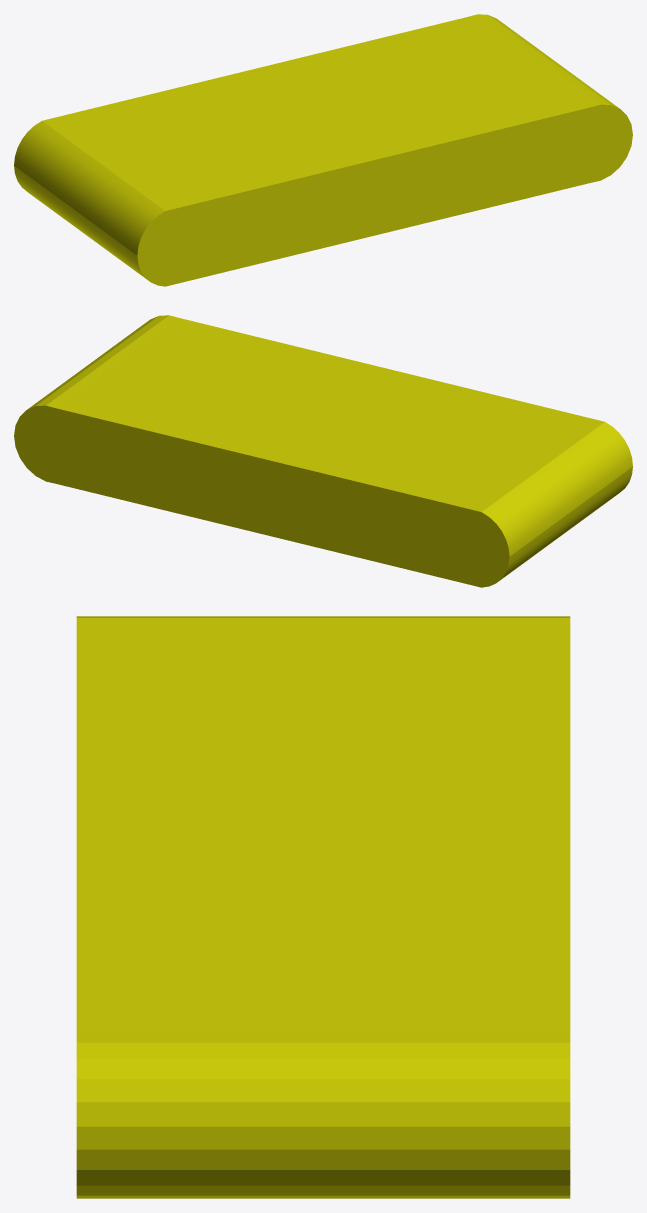
File: original-1.obj
3 renders of one model, top to bottom at view 1: azimuth 30°, elevation 25°; view 2: azimuth 150°, elevation 25°; view 3: azimuth 270°, elevation 25°, orthographic. The views are drawn at different scales.
Parts seen in each view (by area): view 1: Group2/mesh1/mesh1-geometry#mesh1-geometry; view 2: Group2/mesh1/mesh1-geometry#mesh1-geometry; view 3: Group2/mesh1/mesh1-geometry#mesh1-geometry.
Boxes of the visible parts, bbox=[...] form: Group2/mesh1/mesh1-geometry#mesh1-geometry: bbox=[14, 14, 632, 286]; Group2/mesh1/mesh1-geometry#mesh1-geometry: bbox=[14, 315, 632, 587]; Group2/mesh1/mesh1-geometry#mesh1-geometry: bbox=[76, 616, 570, 1198].
Size of the model in its own units: 0.14 by 0.0205 by 0.0604.
